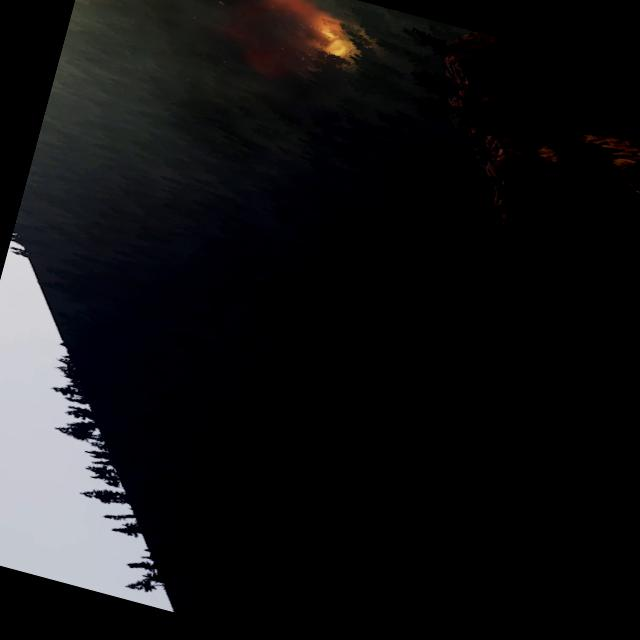fire: (254, 0, 367, 63)
smoke: (120, 0, 370, 100)
